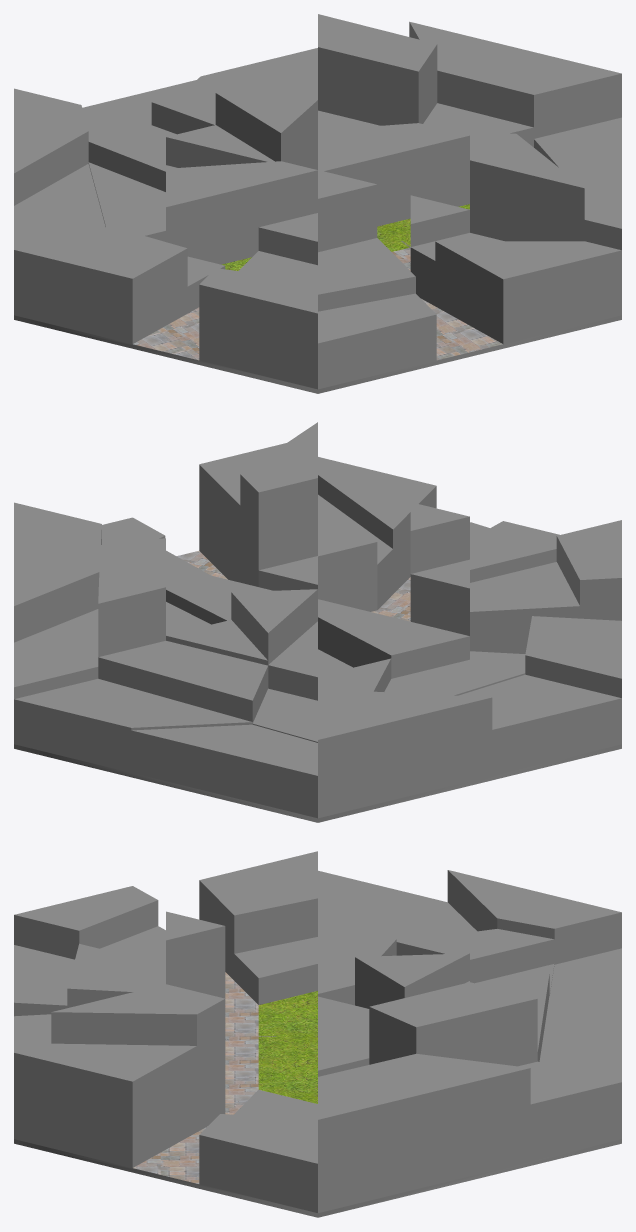
The picture shows the model from 3 angles, top to bottom: view 1: azimuth 30°, elevation 25°; view 2: azimuth 150°, elevation 25°; view 3: azimuth 270°, elevation 25°; orthographic projection.
Visible parts, largest first — view 1: Cylinder015; view 2: Cylinder015; view 3: Cylinder015.
Boxes of the visible parts, bbox=[...] form: Cylinder015: bbox=[14, 14, 621, 393]; Cylinder015: bbox=[14, 422, 621, 822]; Cylinder015: bbox=[14, 851, 621, 1217].
Size of the model in its own units: 140 by 27.37 by 121.
5 materials, 2 textured.
